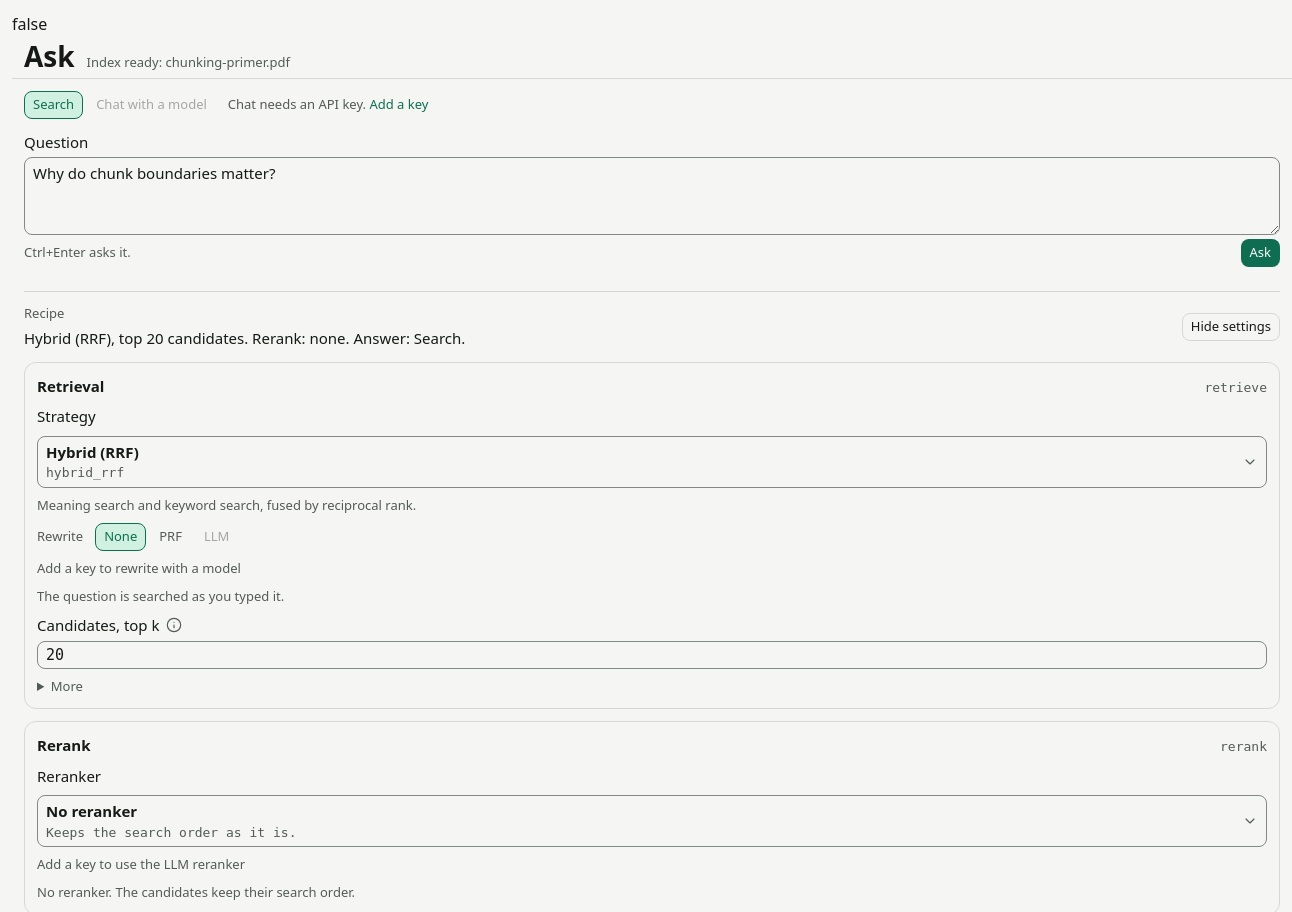
Answer with, above the question › with no key anywhere, Chat is off with its reason, and Add a key opens the key panel
Expected: the button "Chat with a model" is disabled, [87, 91, 216, 119]
Expected: the text "Chat needs an API key." is shown, [228, 95, 366, 113]
Click the button "Add a key": (399, 105) [369, 95, 428, 114]
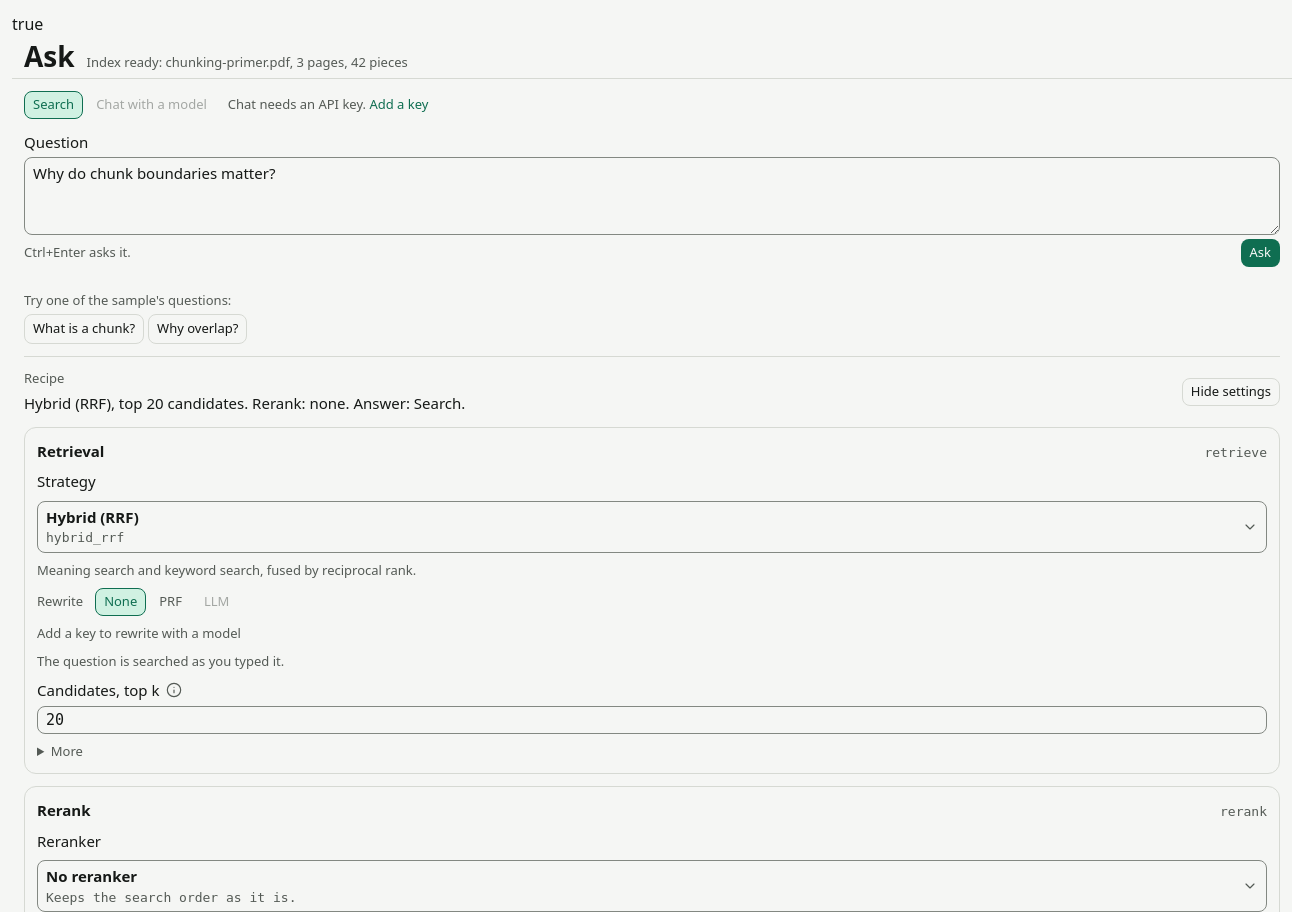
Result: the text with test id "key-panel" reads "true" at [12, 13, 43, 35]
